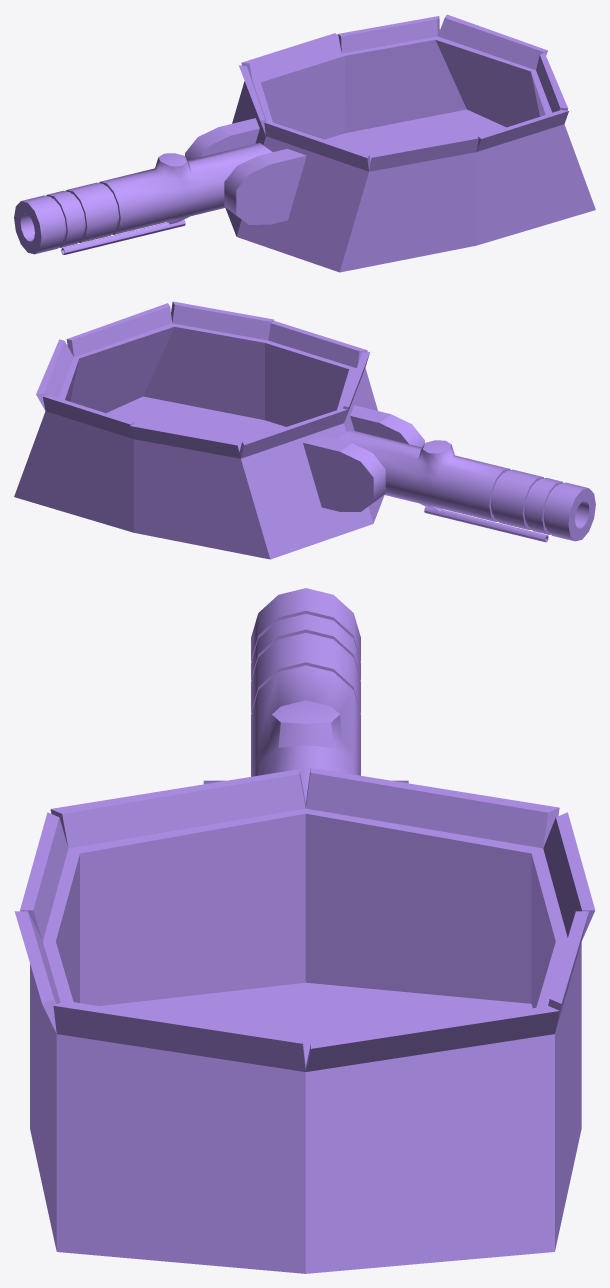
Rendered from TankHead_Support_Group.FBX.
3 renders of one model, top to bottom at view 1: azimuth 30°, elevation 25°; view 2: azimuth 150°, elevation 25°; view 3: azimuth 270°, elevation 25°, orthographic. The views are drawn at different scales.
Parts seen in each view (by area): view 1: TankHead_Support, TankTurret_Support, TankHold_Left_Support, TankHold_Right_Support; view 2: TankHead_Support, TankTurret_Support, TankHold_Right_Support, TankHold_Left_Support; view 3: TankHead_Support, TankTurret_Support.
Boxes of the visible parts, left/top/right/bottom form: TankHead_Support: left=225, top=14, right=595, bottom=272; TankTurret_Support: left=14, top=143, right=272, bottom=254; TankHold_Left_Support: left=224, top=149, right=306, bottom=224; TankHold_Right_Support: left=185, top=118, right=259, bottom=160; TankHead_Support: left=14, top=301, right=384, bottom=559; TankTurret_Support: left=337, top=430, right=595, bottom=542; TankHold_Right_Support: left=303, top=436, right=385, bottom=511; TankHold_Left_Support: left=350, top=405, right=424, bottom=447; TankHead_Support: left=14, top=768, right=595, bottom=1273; TankTurret_Support: left=251, top=588, right=360, bottom=803.
Size of the model in its own units: 139 by 27.34 by 65.91.
